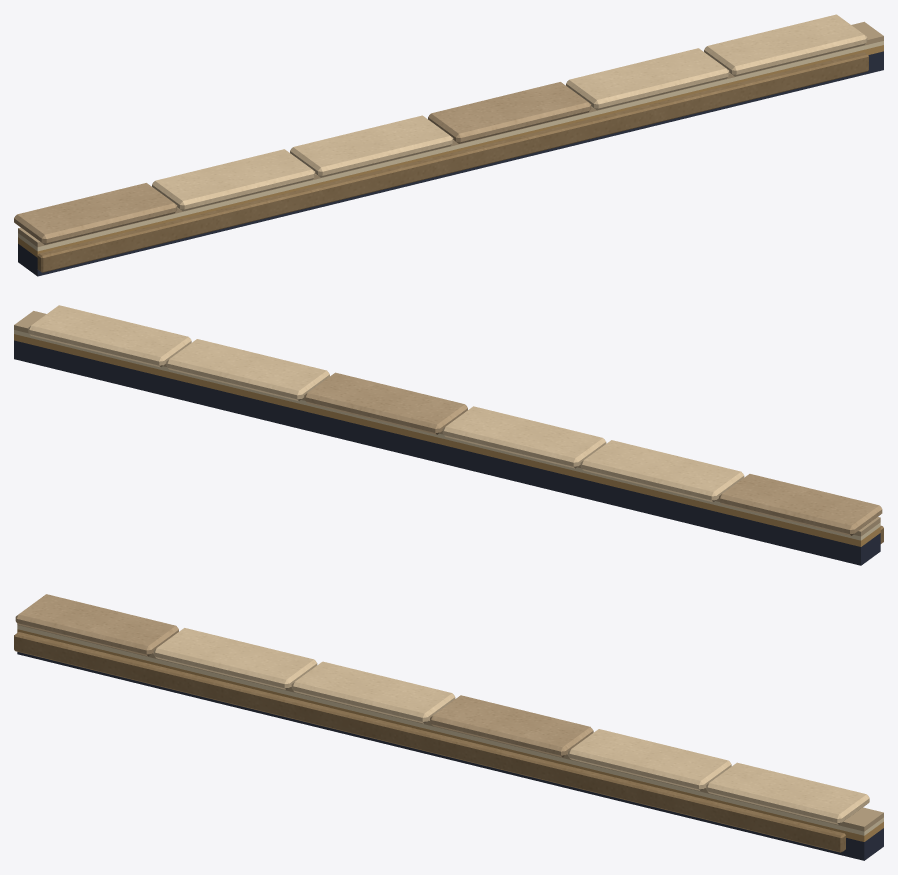
Rendered from front-left-wall.glb.
3 renders of one model, top to bottom at view 1: azimuth 30°, elevation 25°; view 2: azimuth 150°, elevation 25°; view 3: azimuth 330°, elevation 25°, orthographic.
Parts seen in each view (by area): view 1: Front sandstone bevel, Jointed coping stone.016, Jointed coping stone.021, Jointed coping stone.017, Jointed coping stone.020, Jointed coping stone.018, Jointed coping stone.019, Plaster4, Wainscot4, BrassRail4, Cap4; view 2: Wainscot4, BrassRail4, Jointed coping stone.016, Jointed coping stone.018, Jointed coping stone.017, Jointed coping stone.020, Jointed coping stone.019, Jointed coping stone.021, Plaster4, Cap4; view 3: Front sandstone bevel, Jointed coping stone.021, Jointed coping stone.017, Jointed coping stone.018, Jointed coping stone.016, Jointed coping stone.019, Jointed coping stone.020, Plaster4, Wainscot4, BrassRail4, Cap4.
Boxes of the visible parts, bbox=[...] form: Front sandstone bevel: bbox=[37, 52, 868, 272]; Jointed coping stone.016: bbox=[14, 183, 177, 244]; Jointed coping stone.021: bbox=[704, 14, 867, 76]; Jointed coping stone.017: bbox=[152, 149, 315, 211]; Jointed coping stone.020: bbox=[566, 48, 729, 110]; Jointed coping stone.018: bbox=[290, 115, 453, 177]; Jointed coping stone.019: bbox=[428, 82, 591, 143]; Plaster4: bbox=[18, 41, 883, 251]; Wainscot4: bbox=[18, 51, 883, 276]; BrassRail4: bbox=[18, 45, 883, 257]; Cap4: bbox=[18, 21, 883, 247]; Wainscot4: bbox=[14, 340, 880, 565]; BrassRail4: bbox=[14, 334, 880, 546]; Jointed coping stone.016: bbox=[719, 474, 882, 535]; Jointed coping stone.018: bbox=[442, 406, 606, 468]; Jointed coping stone.017: bbox=[580, 440, 744, 502]; Jointed coping stone.020: bbox=[166, 339, 329, 400]; Jointed coping stone.019: bbox=[304, 372, 467, 434]; Jointed coping stone.021: bbox=[28, 305, 191, 367]; Plaster4: bbox=[14, 330, 880, 540]; Cap4: bbox=[14, 311, 880, 536]; Front sandstone bevel: bbox=[14, 632, 845, 852]; Jointed coping stone.021: bbox=[706, 762, 869, 824]; Jointed coping stone.017: bbox=[153, 628, 317, 689]; Jointed coping stone.018: bbox=[291, 661, 455, 723]; Jointed coping stone.016: bbox=[15, 594, 178, 656]; Jointed coping stone.019: bbox=[430, 695, 593, 757]; Jointed coping stone.020: bbox=[568, 729, 731, 791]; Plaster4: bbox=[17, 625, 883, 835]; Wainscot4: bbox=[17, 652, 883, 860]; BrassRail4: bbox=[17, 629, 883, 841]; Cap4: bbox=[17, 624, 883, 831].
Bounding box in the file's own units: 6.25 × 0.303 × 0.4.
7 materials, 3 textured.
